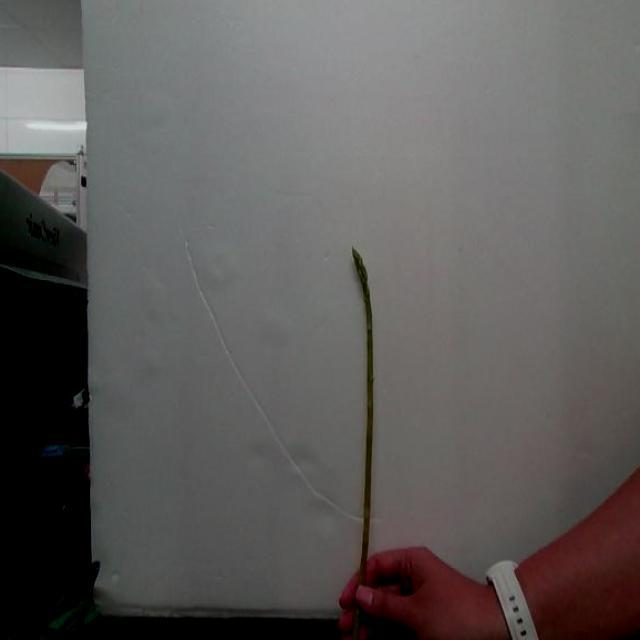aspargus: (350, 249, 374, 592)
